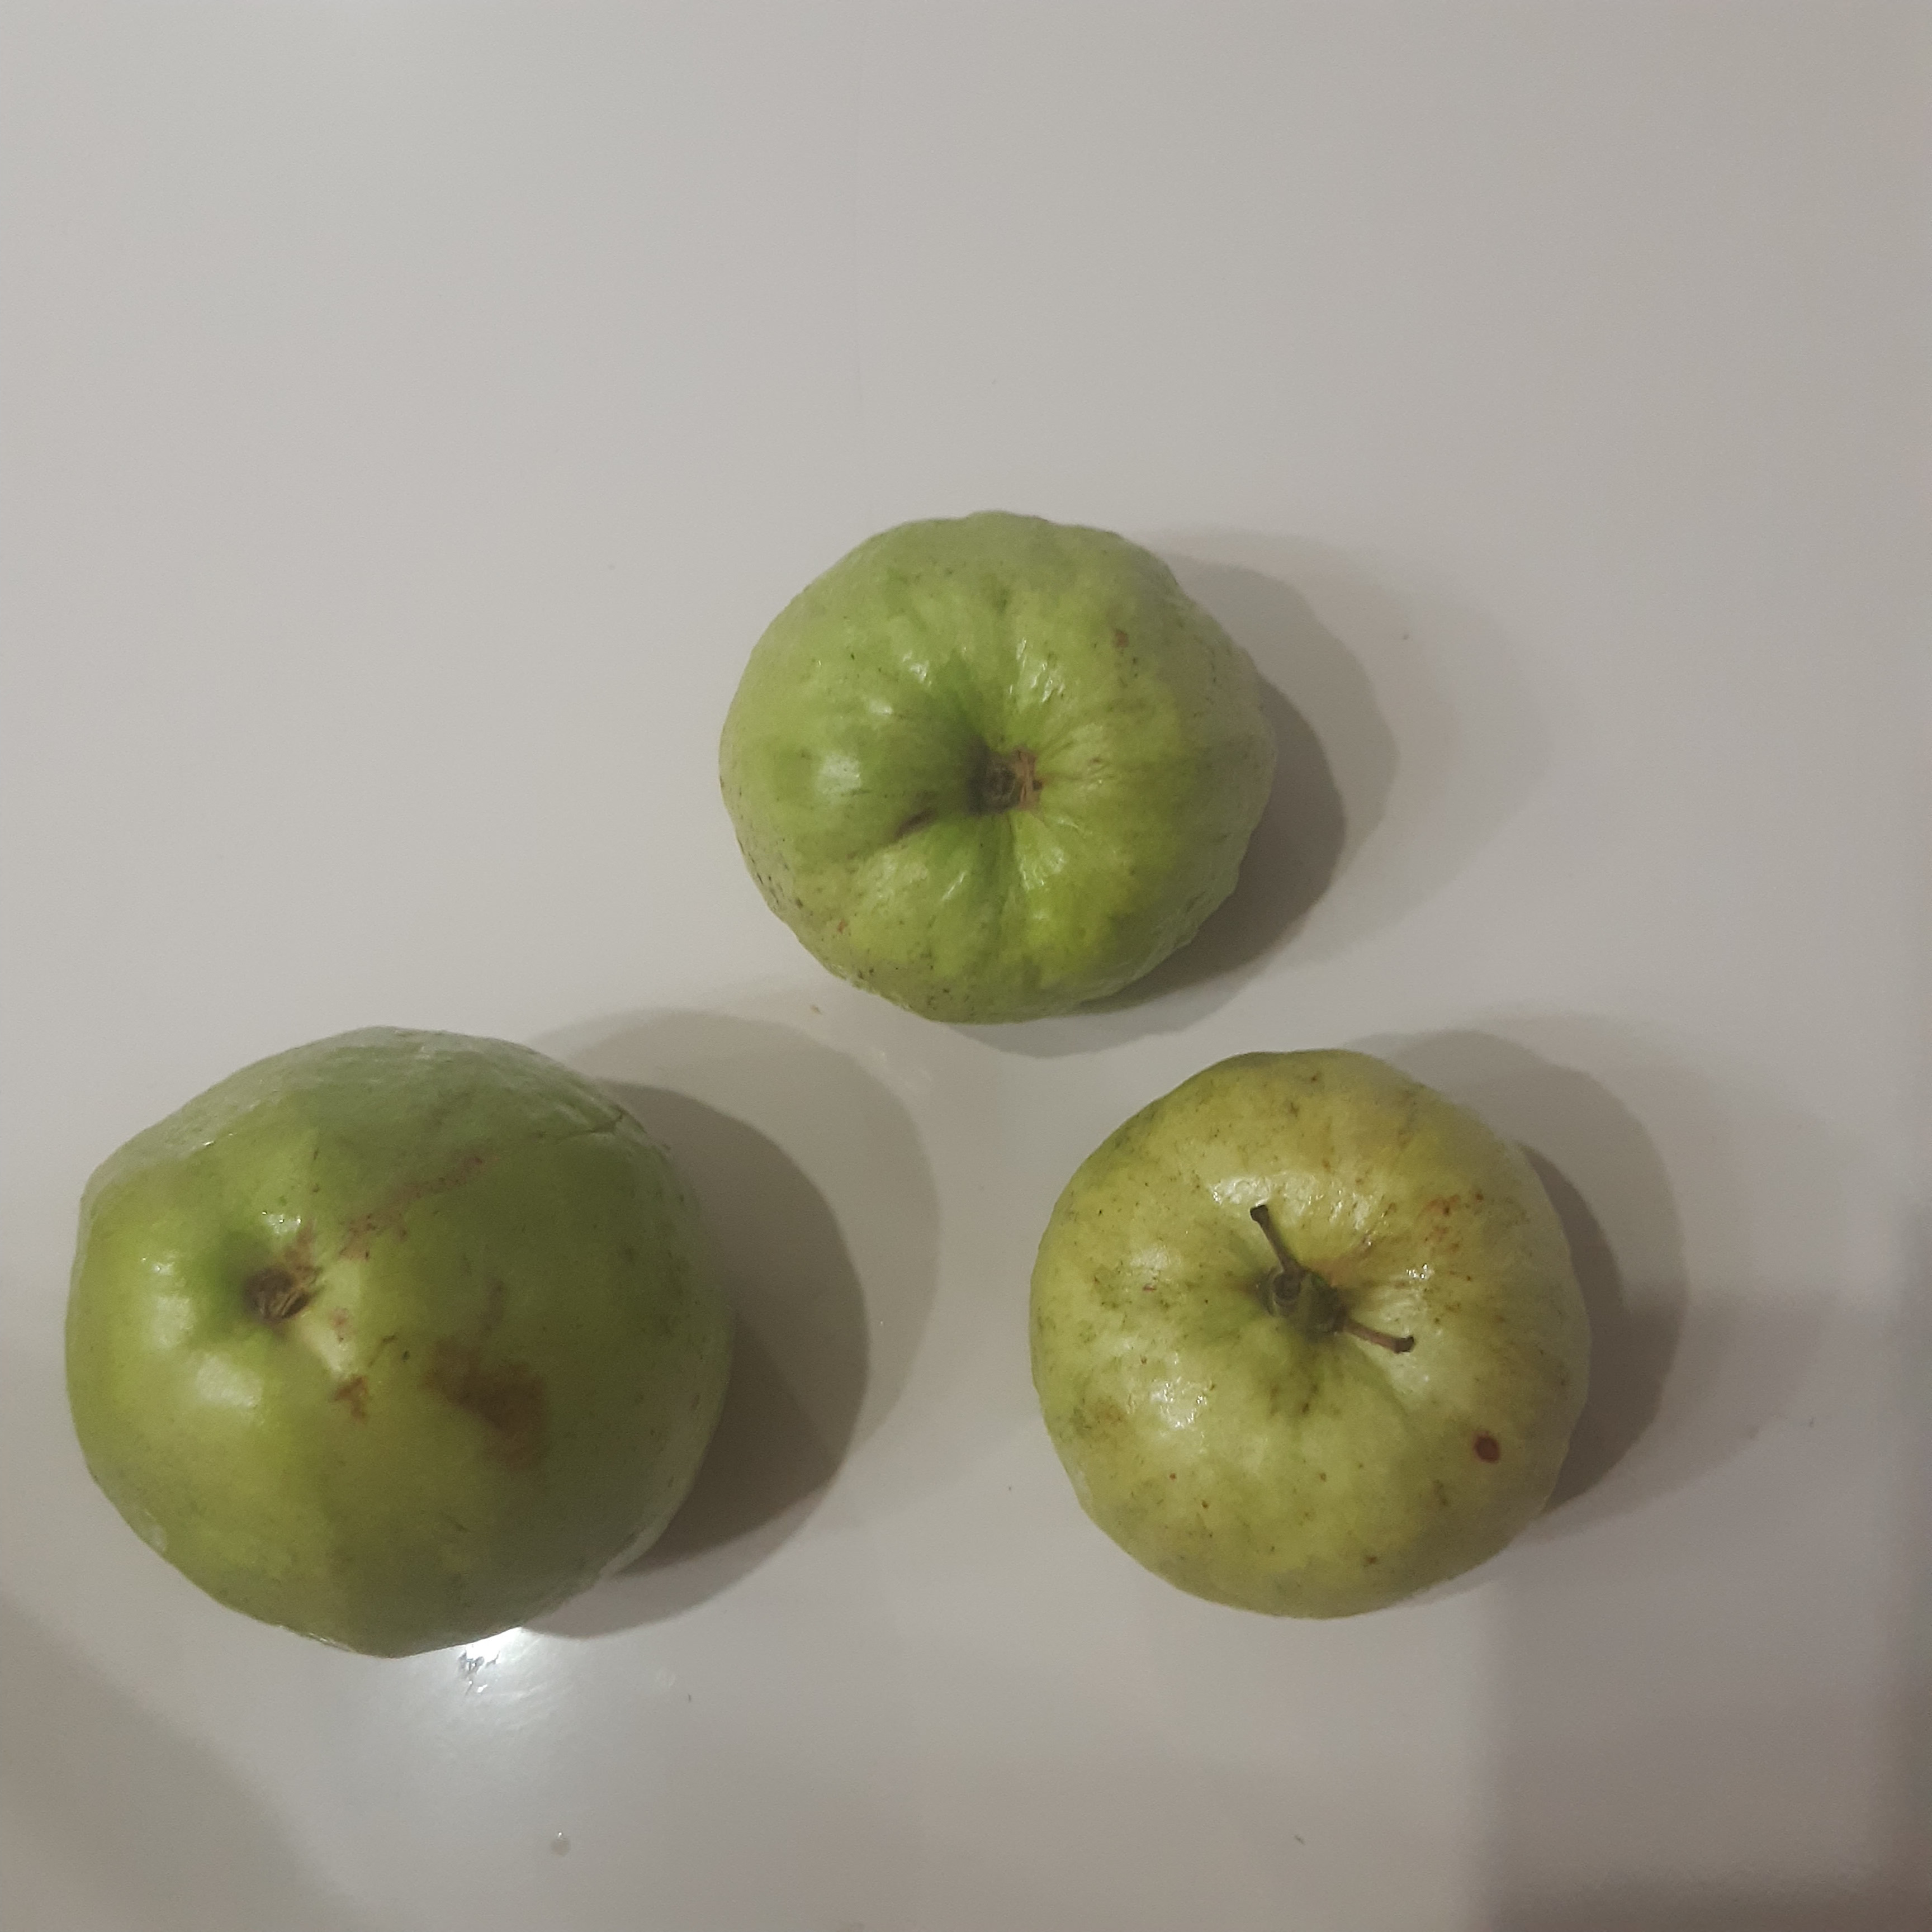Oi: (64, 1028, 731, 1656), (1028, 1049, 1598, 1621), (715, 510, 1279, 1023)
